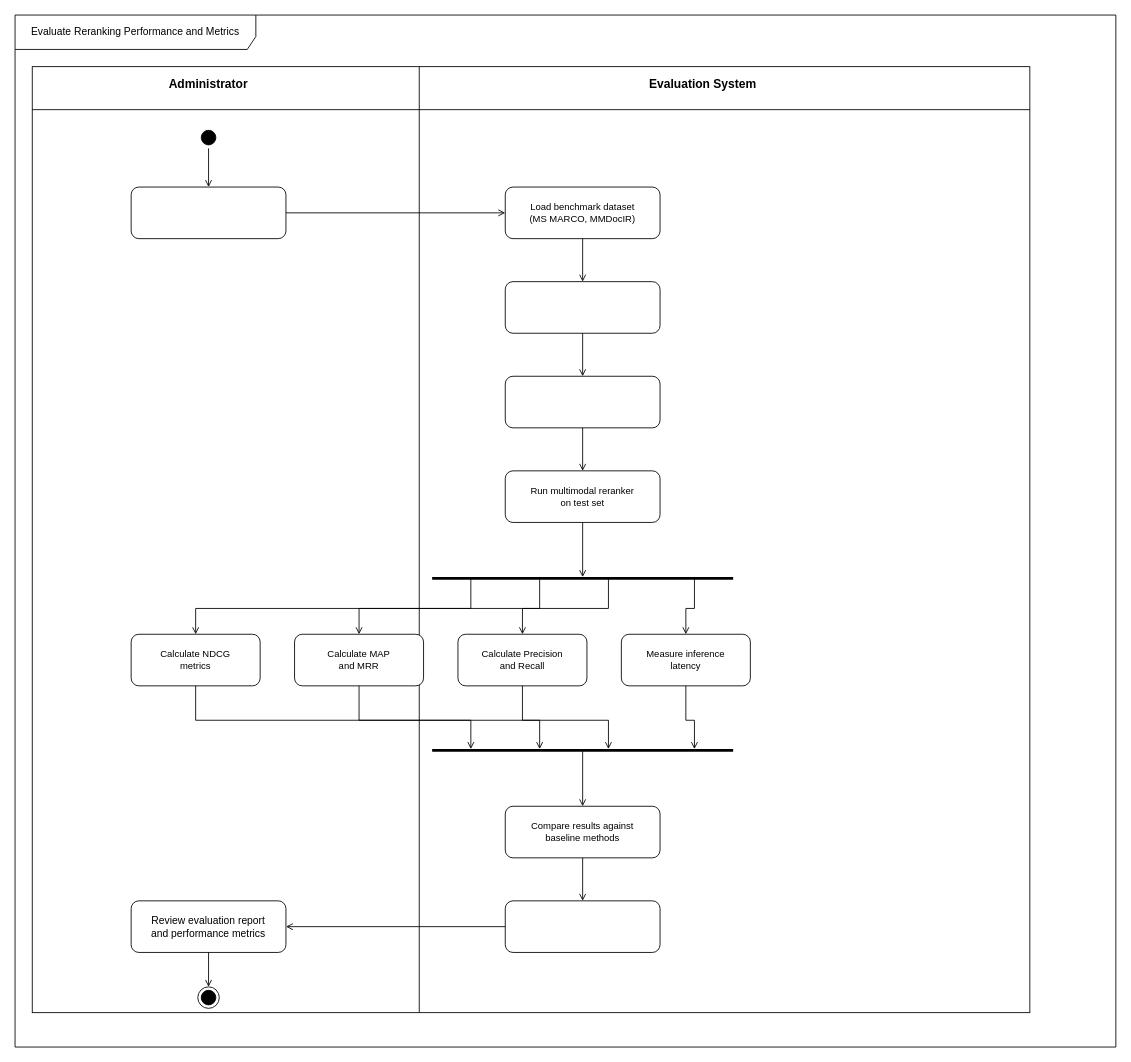
The diagram is 1131 pixels wide and 1062 high, and some of its shapes have lost their labels. The shapes that lost their labels are listed below. From the top down, each one's centre as x and y in pixels, then its label:
(x=208, y=212): Initiate reranking evaluation task
(x=582, y=307): Prepare test queries with ground truth labels
(x=582, y=401): Run baseline methods (BM25, RankZephyr)
(x=582, y=926): Generate evaluation report with visualizations
